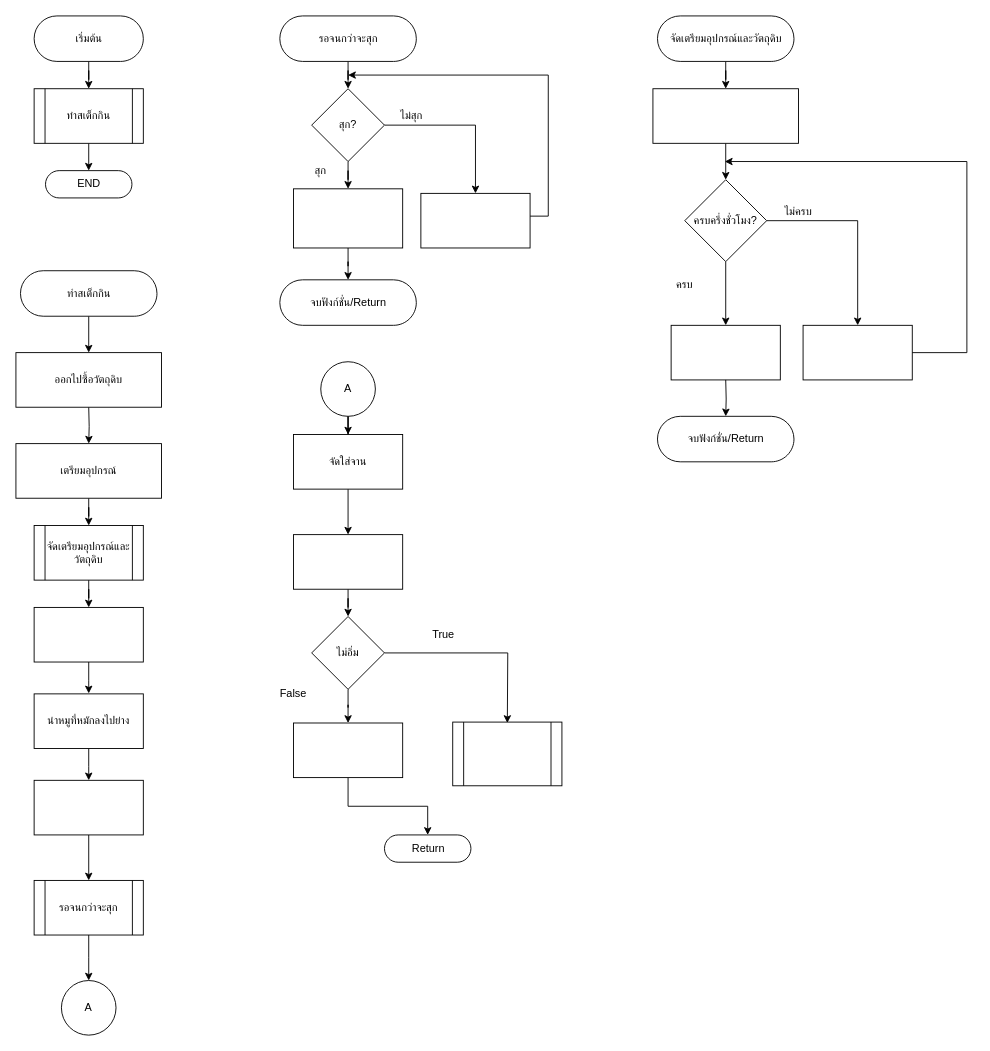
The diagram is 990 pixels wide and 1051 high, and some of its shapes have lost their labels. The shapes that lost their labels are listed below. From the top down, each one's box as (x1, y1, x2, y2) in pixels, then its label:
(652, 88, 799, 143): หมักหมูด้วยน้ำมันหอยอย่างน้อยครึ่งชั่วโมง
(293, 188, 403, 248): นำจัดใส่จาน
(420, 192, 530, 248): รอ
(670, 324, 780, 380): ทาน้ำมันทั้งที่ทั้งสองฝั่งของสเต๊ก
(802, 324, 912, 380): รอให้ครบครึ่งชั่วโมง
(293, 534, 403, 589): รับประทาน
(33, 607, 143, 662): ตั้งกระทะร้อนจัด
(293, 722, 403, 778): เอาจานไปเก็บ/ไปล้าง
(452, 721, 562, 786): ทำสเต๊กกิน
(33, 779, 143, 835): ใส่เครื่องปรุงและผัก
